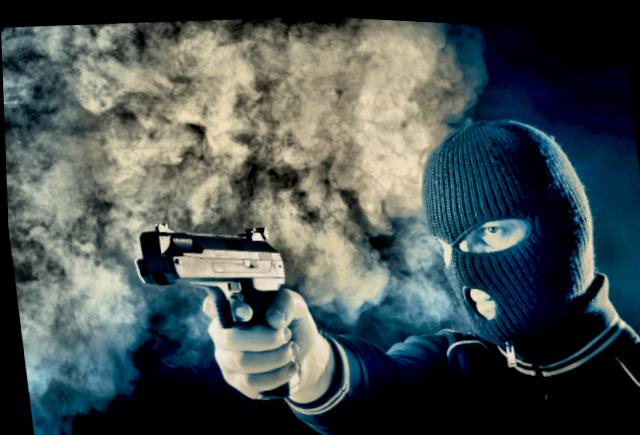pistol: (127, 203, 291, 336)
